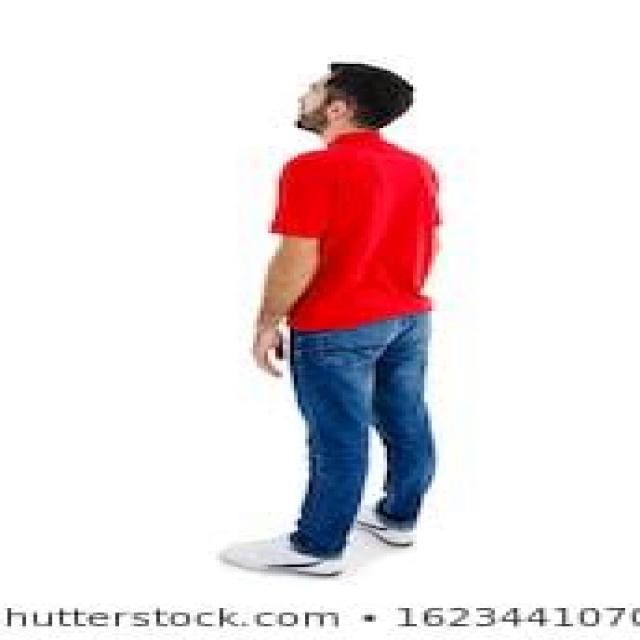adult: (190, 27, 495, 592)
